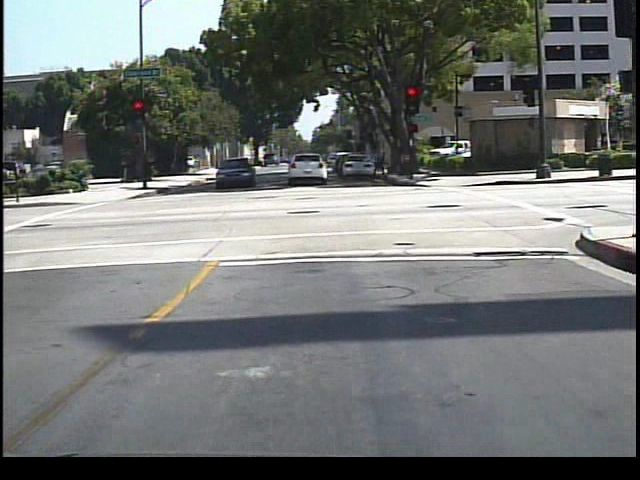person: (368, 144, 390, 185)
